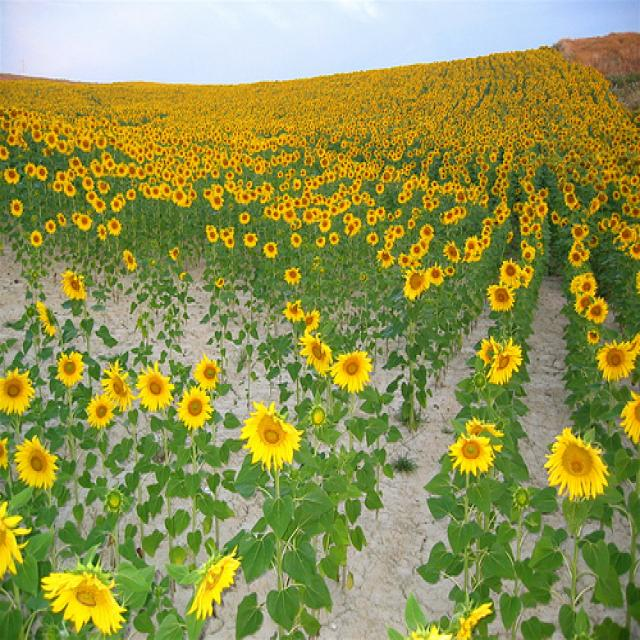sunflower: (34, 554, 139, 640), (232, 398, 302, 483), (551, 432, 613, 514), (193, 551, 251, 635), (10, 430, 59, 509), (453, 420, 507, 488), (321, 343, 374, 401), (476, 331, 522, 389), (138, 362, 178, 426), (594, 337, 640, 388), (1, 367, 41, 416), (96, 364, 134, 413), (54, 262, 92, 310), (177, 381, 211, 432), (191, 348, 224, 398), (398, 268, 431, 307), (482, 282, 516, 319), (502, 254, 526, 292), (584, 292, 610, 326), (576, 270, 599, 300), (118, 246, 141, 275), (286, 295, 304, 331), (2, 166, 27, 190), (442, 241, 464, 268), (200, 220, 222, 246), (98, 220, 123, 242), (375, 250, 397, 272), (73, 212, 92, 237), (564, 184, 582, 210), (260, 239, 279, 263), (169, 188, 188, 212), (568, 220, 586, 244), (66, 154, 84, 176), (456, 184, 470, 210), (419, 224, 439, 242), (288, 230, 305, 251), (28, 227, 44, 249), (36, 162, 52, 184), (44, 130, 60, 152), (132, 162, 148, 184), (340, 220, 360, 237), (107, 196, 123, 217), (93, 133, 109, 154), (209, 193, 225, 213), (382, 166, 398, 186), (486, 148, 501, 168), (421, 198, 438, 215), (535, 200, 549, 220), (244, 232, 260, 249), (302, 208, 318, 225), (8, 200, 23, 218), (125, 188, 144, 201), (393, 222, 406, 241), (169, 247, 184, 263), (251, 161, 269, 174), (240, 208, 252, 227), (292, 176, 304, 194), (520, 182, 535, 195), (278, 148, 290, 164), (351, 193, 364, 206), (226, 167, 236, 183), (315, 237, 328, 249), (495, 212, 507, 225), (325, 170, 338, 182), (316, 146, 328, 158), (398, 194, 410, 204), (262, 206, 272, 218)
